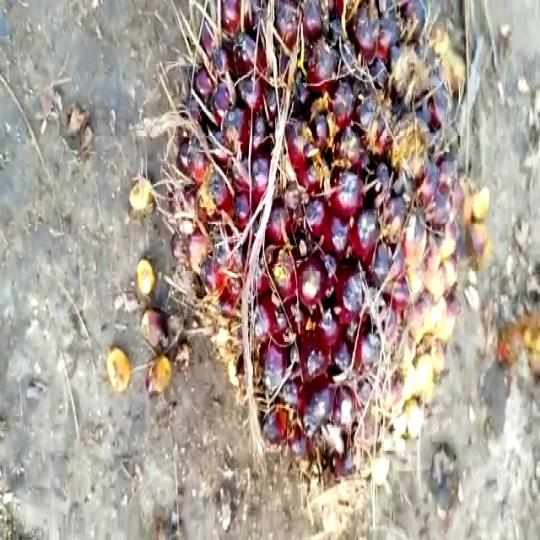kurang masak: (169, 0, 488, 493)
